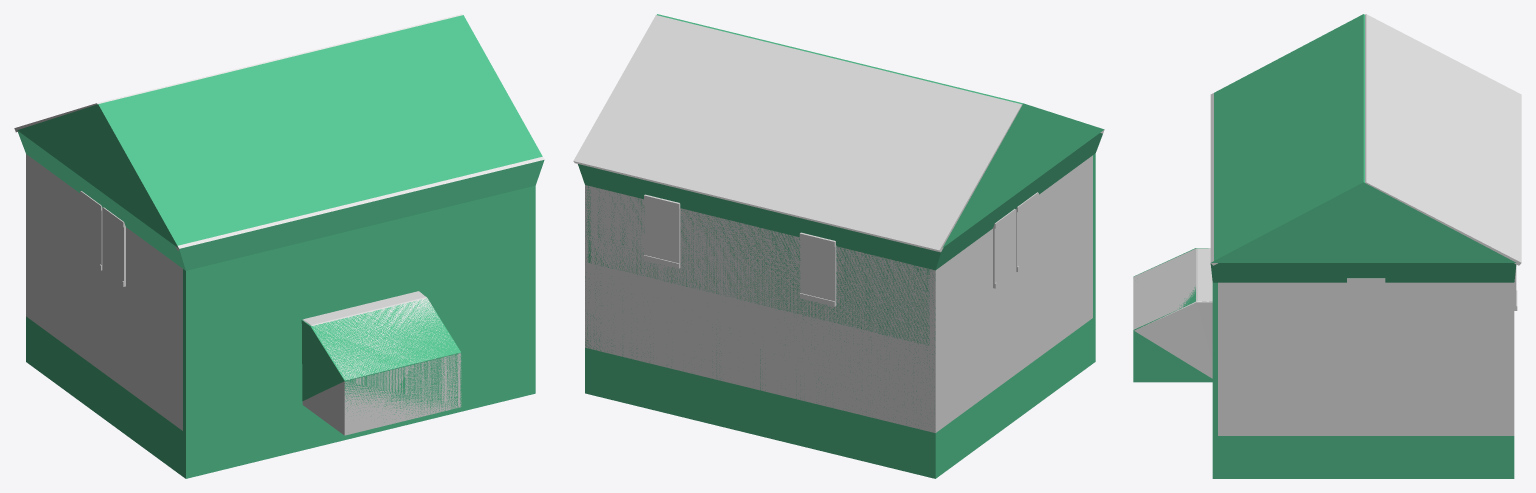
The model's file is eca_bld_store_fish_a.dae.
The picture shows the model from 3 angles, left to right: view 1: azimuth 30°, elevation 25°; view 2: azimuth 150°, elevation 25°; view 3: azimuth 270°, elevation 25°; orthographic projection. The views are drawn at different scales.
Visible parts, largest first — view 1: Colmesh-1, ind_bld_a100, ind_bld_a60, ind_bld_a500; view 2: ind_bld_a500, ind_bld_a100, Colmesh-1, ind_bld_a60; view 3: Colmesh-1, ind_bld_a500, ind_bld_a100, ind_bld_a60.
Part boxes in pixels (box(x1,y1,x2,y2)): Colmesh-1: box(17, 15, 544, 478); ind_bld_a100: box(14, 103, 461, 435); ind_bld_a60: box(26, 154, 182, 430); ind_bld_a500: box(15, 14, 544, 379); ind_bld_a500: box(573, 15, 1104, 343); ind_bld_a100: box(573, 104, 1103, 432); Colmesh-1: box(578, 14, 1104, 478); ind_bld_a60: box(585, 155, 1092, 432); Colmesh-1: box(1133, 14, 1516, 478); ind_bld_a500: box(1133, 14, 1521, 378); ind_bld_a100: box(1202, 182, 1521, 435); ind_bld_a60: box(1224, 282, 1507, 435).
Size of the model in its own units: 9.4 by 9.17 by 7.82.
